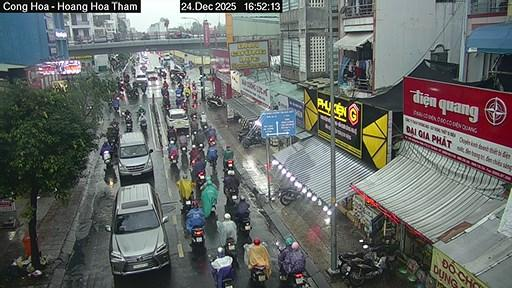motorbike: (338, 243, 390, 286), (348, 255, 384, 286), (280, 270, 309, 286), (278, 188, 300, 205), (220, 262, 233, 287), (242, 133, 263, 147), (224, 238, 236, 261), (250, 266, 265, 283), (192, 226, 204, 246), (205, 97, 224, 108), (237, 216, 249, 233), (195, 171, 204, 193), (224, 238, 234, 257), (102, 149, 112, 167), (224, 188, 236, 202), (182, 194, 191, 212), (224, 158, 233, 175), (124, 113, 131, 130), (169, 153, 178, 166), (208, 157, 216, 169), (276, 241, 284, 252), (125, 117, 131, 131), (140, 117, 146, 131), (199, 121, 207, 130), (208, 136, 214, 145), (179, 144, 185, 153), (140, 85, 146, 94), (192, 99, 197, 109), (359, 239, 364, 242), (214, 283, 217, 286), (210, 259, 214, 261), (214, 277, 216, 279)
